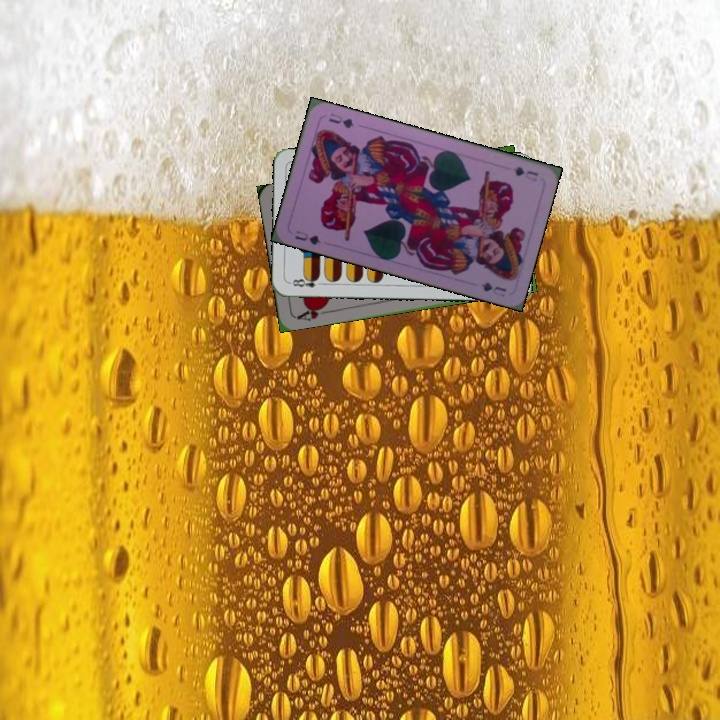E8: (286, 273, 327, 290)
GU: (291, 226, 323, 248), (509, 162, 541, 184)
HA: (293, 300, 333, 323)
